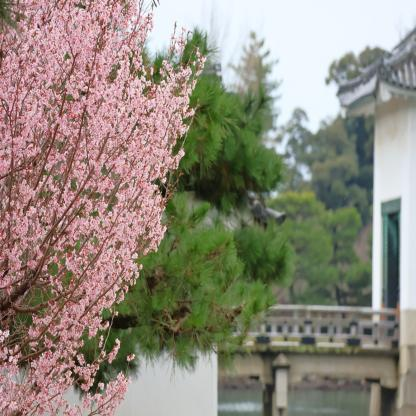Ume: (0, 0, 208, 416)
